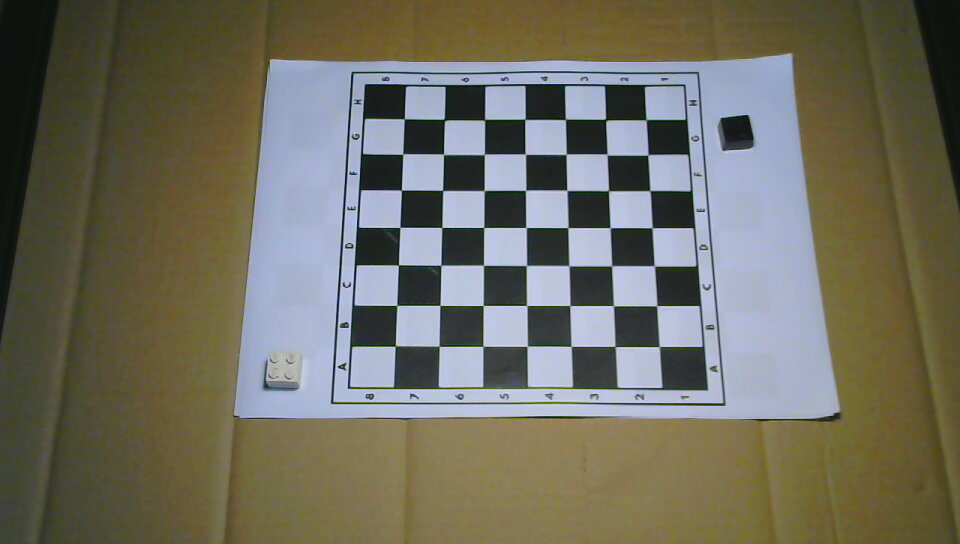bp: (716, 114, 755, 152)
wp: (265, 350, 304, 392)
